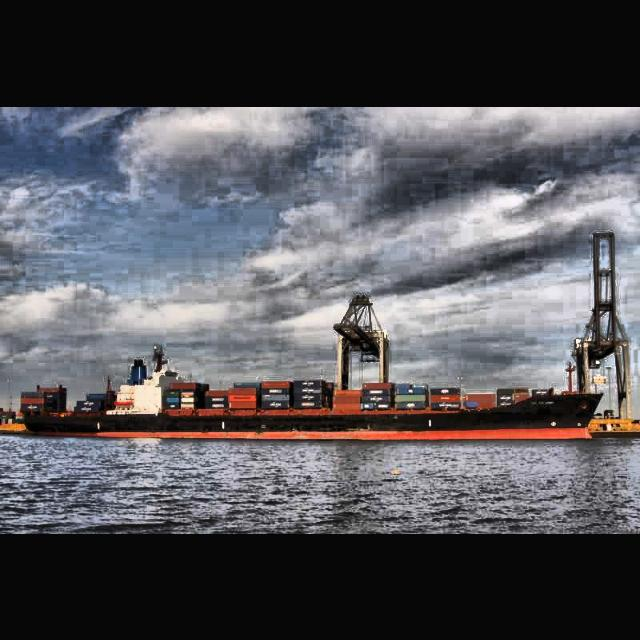container: (21, 356, 606, 440)
